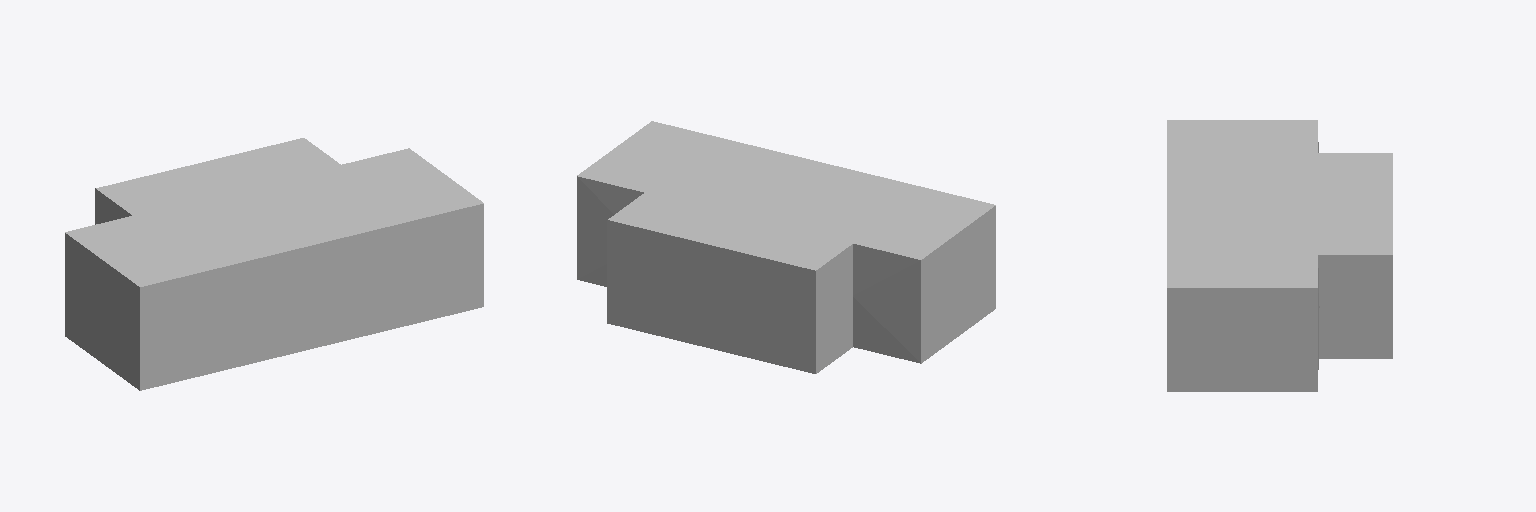
File: ship.obj
3 renders of one model, left to right at view 1: azimuth 30°, elevation 25°; view 2: azimuth 150°, elevation 25°; view 3: azimuth 270°, elevation 25°, orthographic.
Parts seen in each view (by area): view 1: Cube; view 2: Cube; view 3: Cube.
Boxes of the visible parts, <box> form: Cube: <box>65,138,483,390</box>; Cube: <box>577,121,995,373</box>; Cube: <box>1167,120,1392,391</box>.
Size of the model in its own units: 3.54 by 1.02 by 2.